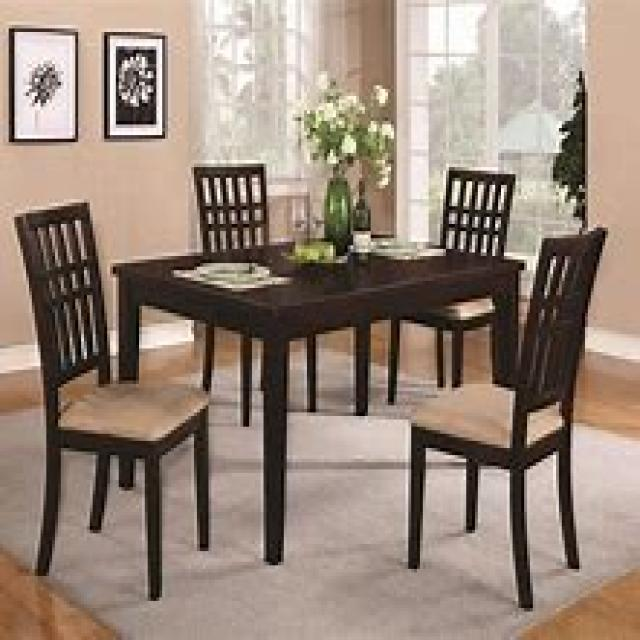chair: (12, 199, 212, 597), (406, 224, 608, 608), (191, 160, 316, 423), (385, 164, 516, 402)
table: (110, 231, 524, 562)
